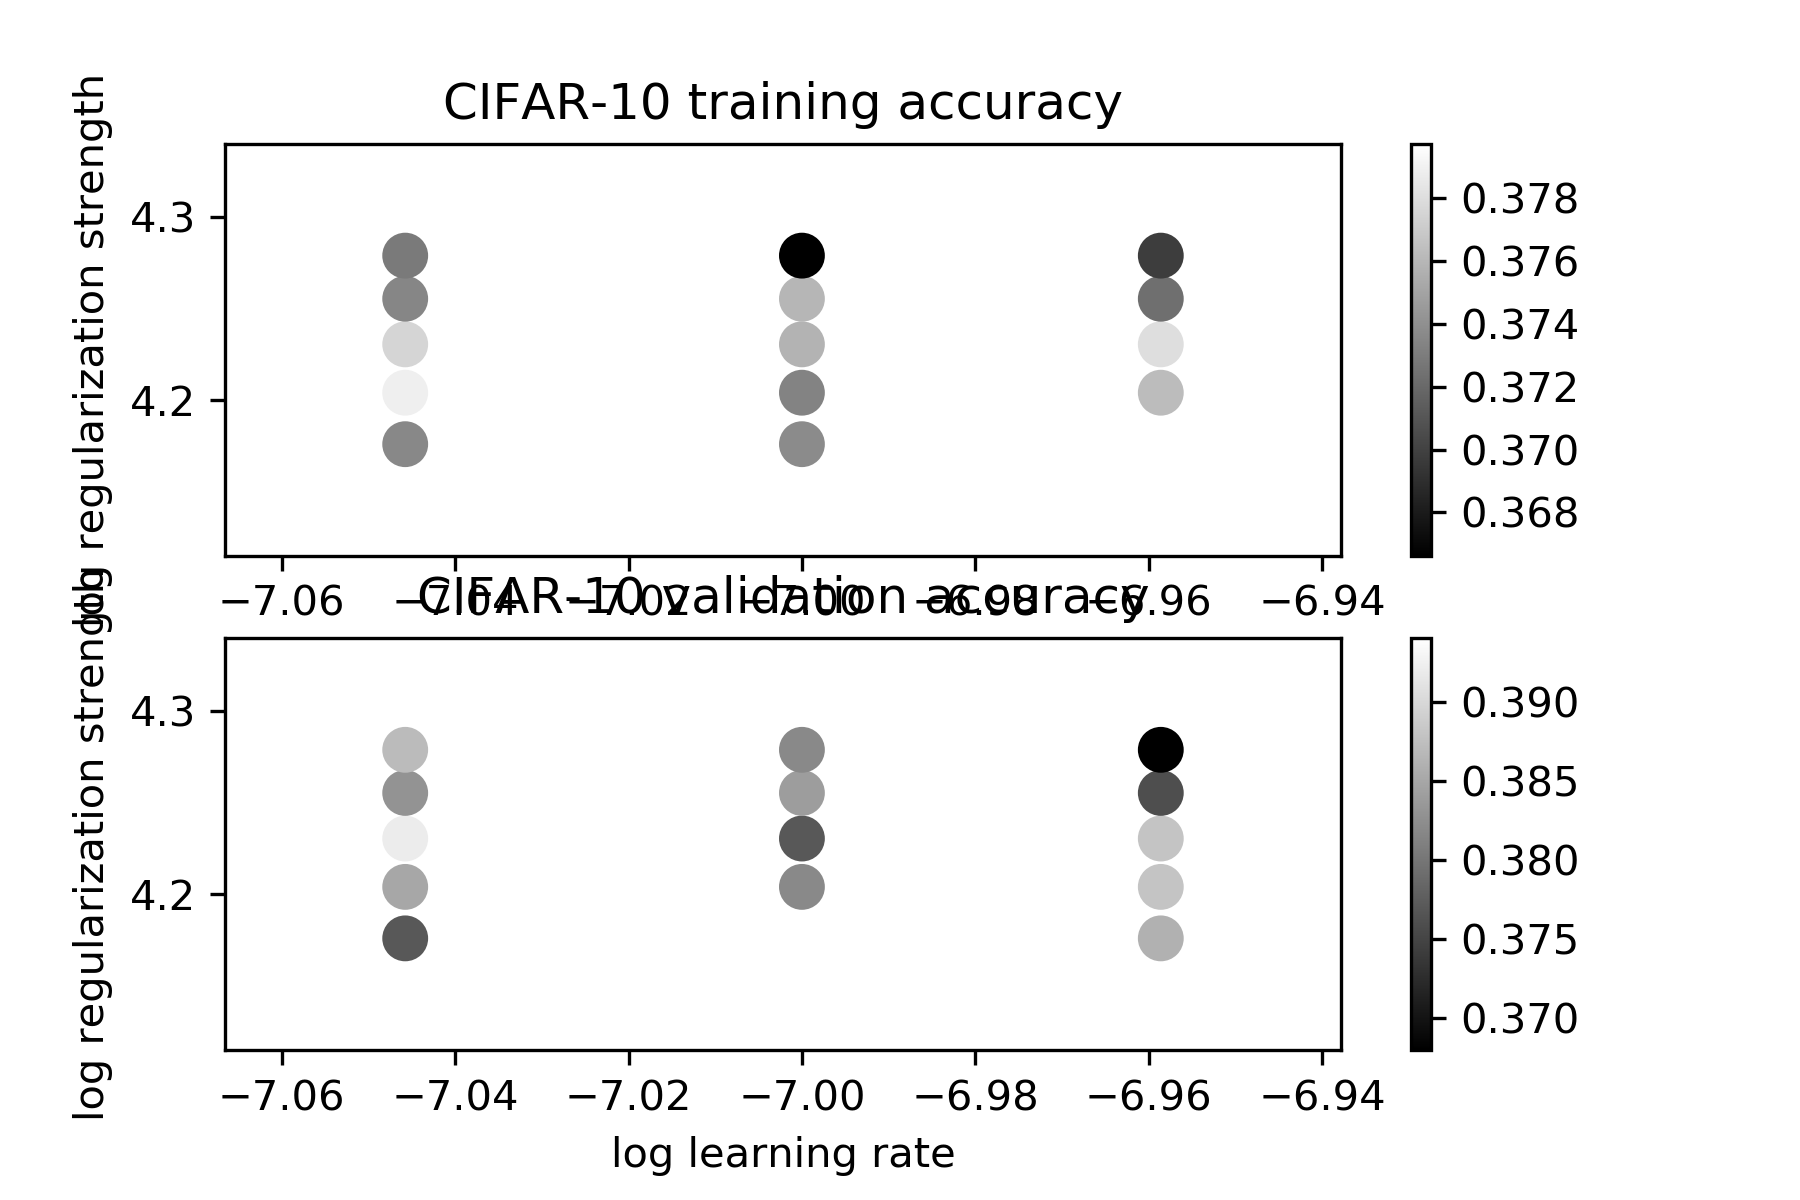person: (530, 351, 1054, 816)
